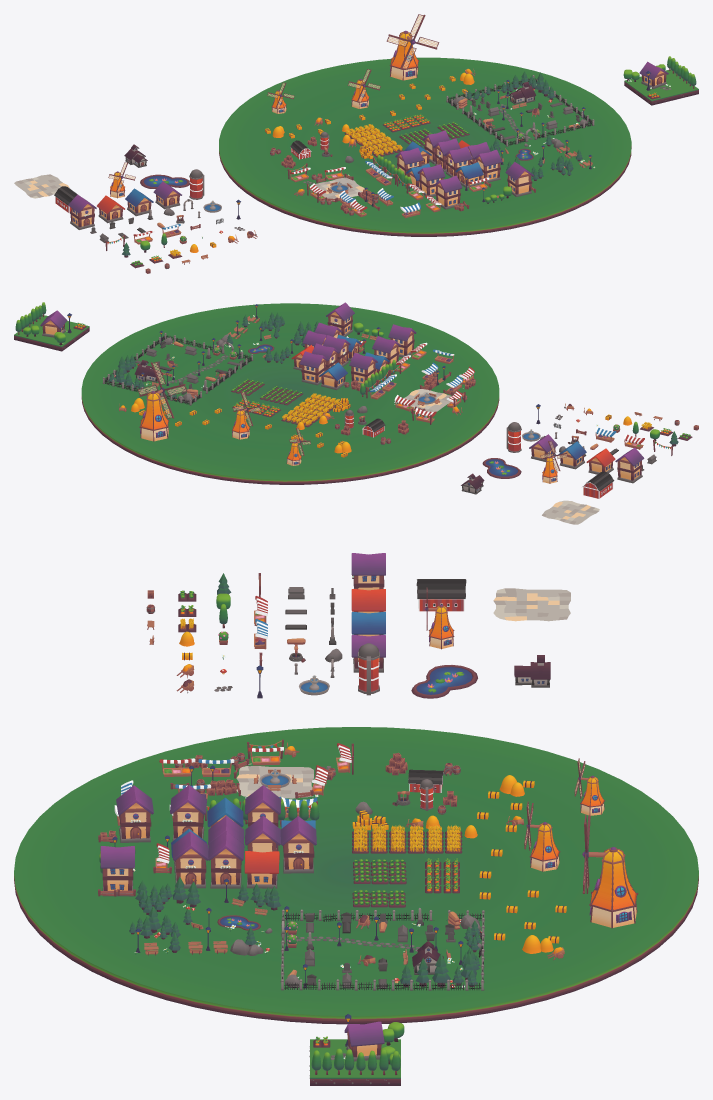
File: village_town_assets_v2.glb
3 renders of one model, top to bottom at view 1: azimuth 30°, elevation 25°; view 2: azimuth 150°, elevation 25°; view 3: azimuth 270°, elevation 25°, orthographic. The views are drawn at different scales.
Parts seen in each view (by area): view 1: World, Windmill.003, Plane.004, House_2Story_Purple, House_2Story_Purple.009, House_2Story_Purple.001, House_2Story_Purple.002, House_2Story_Purple.008, Windmill.002, House_2Story_Purple.004, House_Red, House_Purple (+10 smaller); view 2: World, Windmill.003, Plane.004, House_2Story_Purple, House_2Story_Purple.006, Windmill.002, House_2Story_Purple.007, Barn, House_2Story_Purple.001, House_2Story_Purple.009, Pond, Windmill (+12 smaller); view 3: World, Windmill.003, Plane.004, House_2Story_Purple.009, House_2Story_Purple.006, House_2Story_Purple.003, House_2Story_Purple.002, Plane.001, House_2Story_Purple.001, Barn, Pond, House_2Story_Purple.008 (+12 smaller).
Part boxes in pixels (bbox=[...]): World: bbox=[219, 57, 631, 236]; Windmill.003: bbox=[386, 14, 439, 80]; Plane.004: bbox=[14, 174, 69, 198]; House_2Story_Purple: bbox=[68, 194, 96, 229]; House_2Story_Purple.009: bbox=[434, 175, 462, 209]; House_2Story_Purple.001: bbox=[505, 162, 533, 196]; House_2Story_Purple.002: bbox=[474, 149, 502, 182]; House_2Story_Purple.008: bbox=[417, 164, 445, 196]; Windmill.002: bbox=[347, 69, 380, 108]; House_2Story_Purple.004: bbox=[444, 146, 472, 177]; House_Red: bbox=[97, 195, 124, 223]; House_Purple: bbox=[153, 181, 181, 209]; World: bbox=[81, 303, 499, 484]; Windmill.003: bbox=[137, 362, 187, 441]; Plane.004: bbox=[542, 500, 599, 524]; House_2Story_Purple: bbox=[615, 447, 644, 483]; House_2Story_Purple.006: bbox=[299, 351, 328, 385]; Windmill.002: bbox=[231, 391, 261, 439]; House_2Story_Purple.007: bbox=[349, 353, 377, 385]; Barn: bbox=[581, 471, 614, 498]; House_2Story_Purple.001: bbox=[326, 302, 354, 336]; House_2Story_Purple.009: bbox=[388, 324, 416, 357]; Pond: bbox=[482, 458, 521, 478]; Windmill: bbox=[540, 441, 567, 483]; World: bbox=[14, 727, 698, 1024]; Windmill.003: bbox=[582, 815, 638, 928]; Plane.004: bbox=[493, 588, 570, 621]; House_2Story_Purple.009: bbox=[116, 785, 153, 842]; House_2Story_Purple.006: bbox=[280, 816, 316, 873]; House_2Story_Purple.003: bbox=[208, 831, 244, 888]; House_2Story_Purple.002: bbox=[172, 831, 208, 888]; Plane.001: bbox=[236, 766, 313, 798]; House_2Story_Purple.001: bbox=[100, 846, 135, 896]; Barn: bbox=[416, 579, 466, 611]; Pond: bbox=[411, 665, 477, 698]; House_2Story_Purple.008: bbox=[170, 785, 206, 841].
Size of the model in its own units: 64.31 by 7.03 by 37.72.
1 material, 1 textured.
